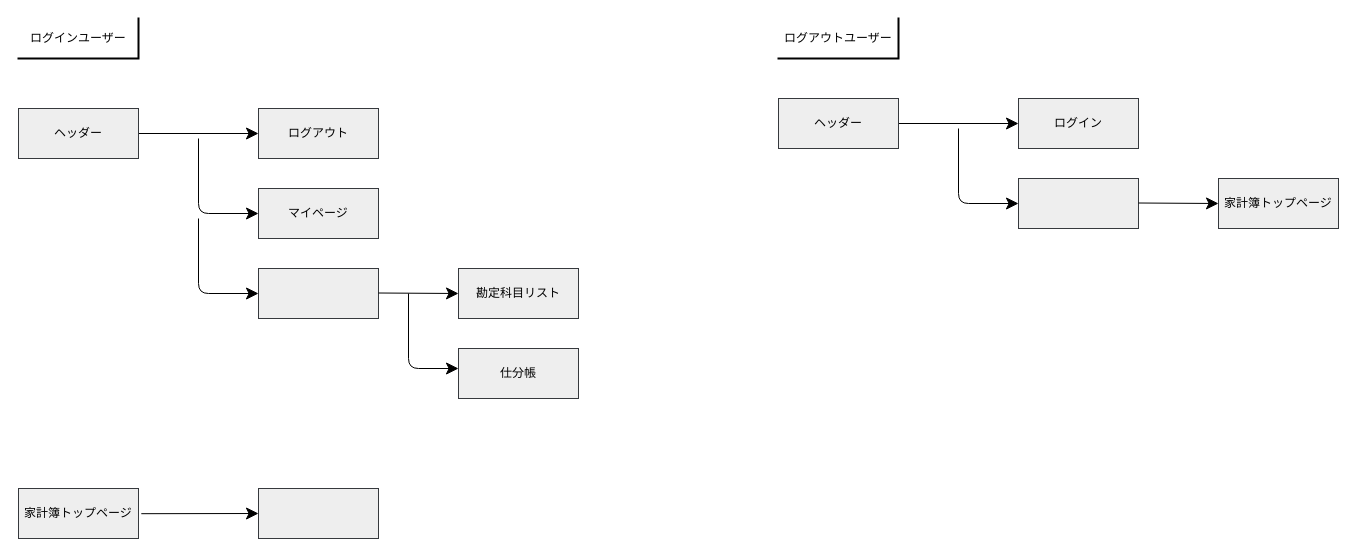
This 1356x556 diagram has some shape labels left out. Each missing label, with the centre of its shape:
"新規登録" belongs at (1078,203).
"記帳ページ" belongs at (318,293).
